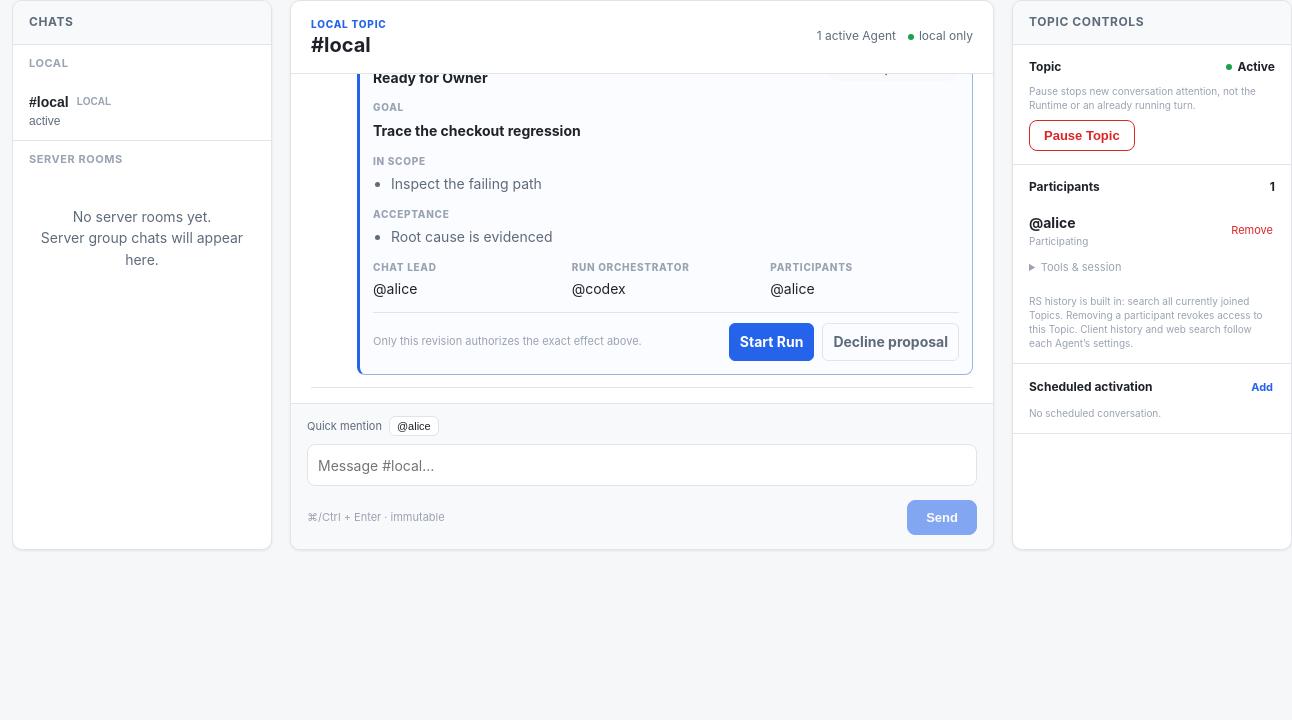
it: ChatsView › confirms the current proposal revision and keeps linked Run state in Chat
(page scrolled)
Click the button with class "start-action" at (772, 342), box [729,323,814,361]
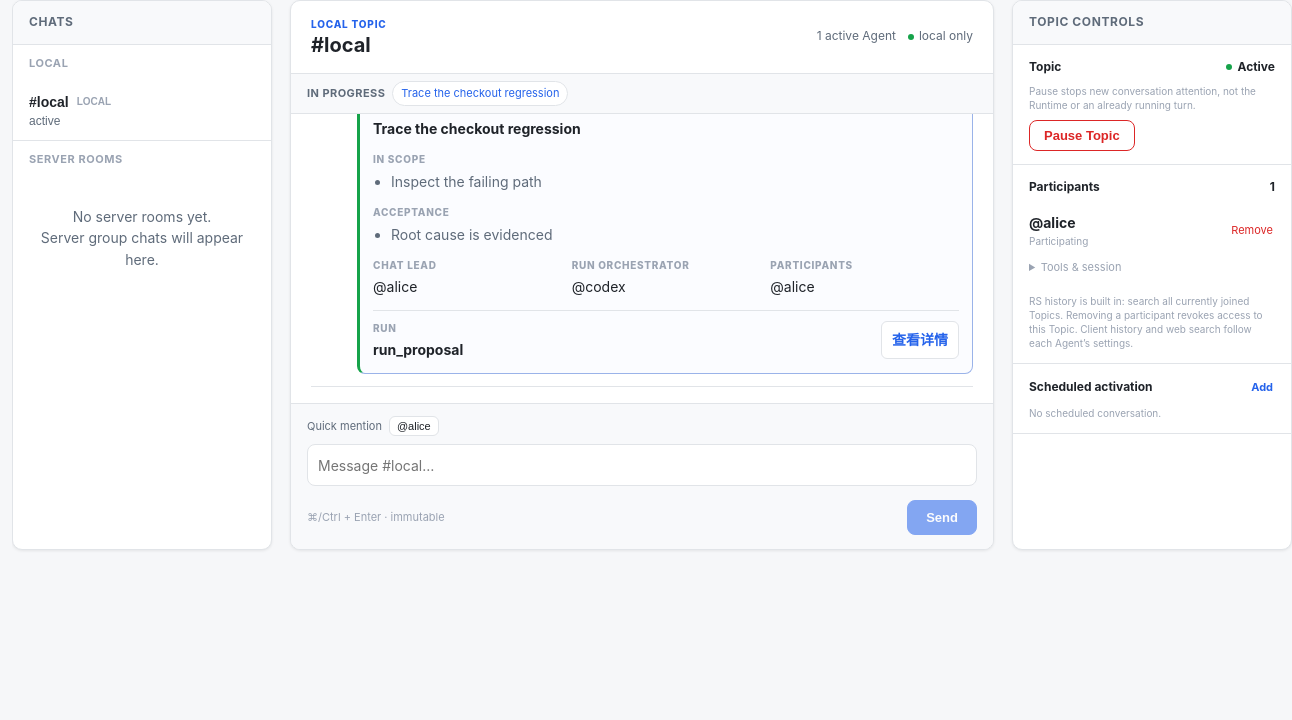
Result: the text "查看详情" is shown at [881,321,959,359]
